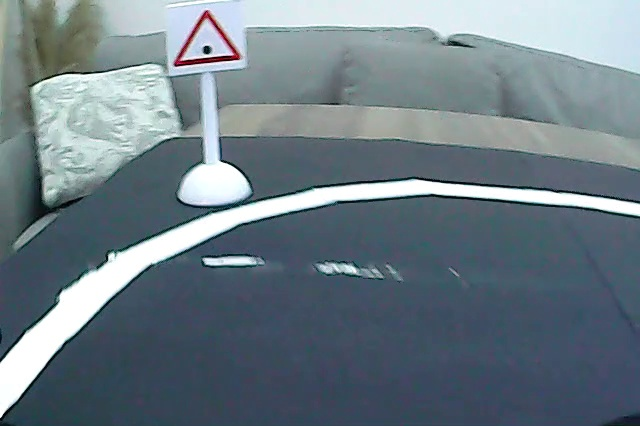green light: (170, 5, 247, 69)
